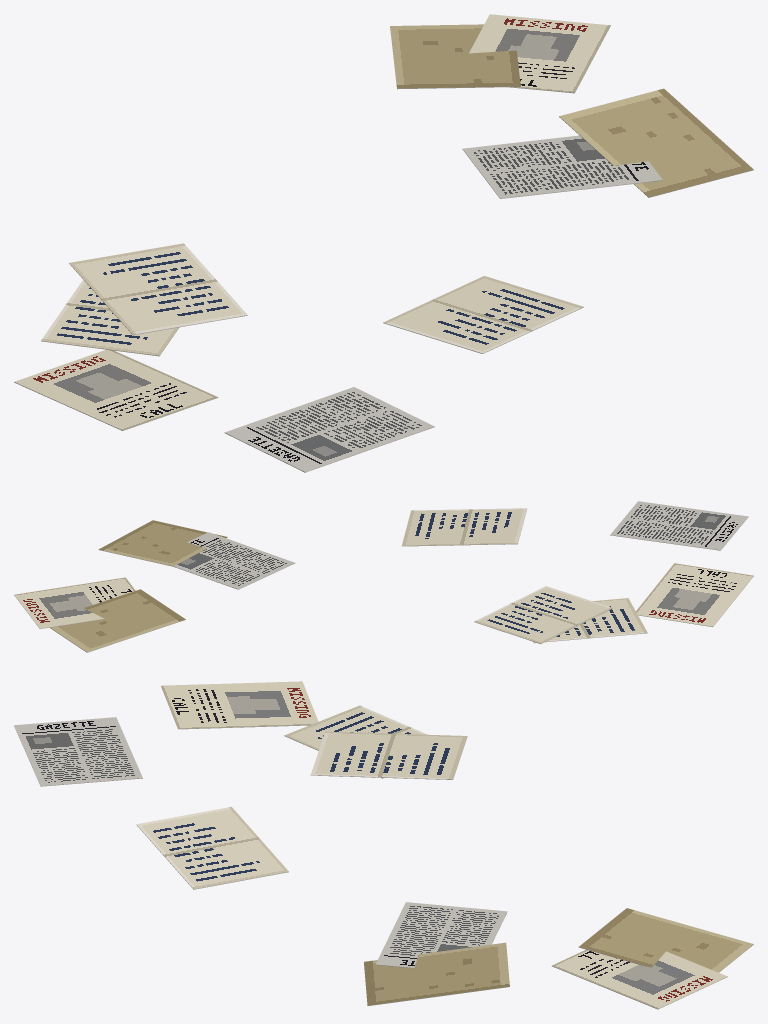
Rendered from ABN_ScatteredPapers.glb.
3 renders of one model, top to bottom at view 1: azimuth 30°, elevation 25°; view 2: azimuth 150°, elevation 25°; view 3: azimuth 270°, elevation 25°, orthographic. The views are drawn at different scales.
Parts seen in each view (by area): view 1: ABN_ScatteredPapers_Mesh; view 2: ABN_ScatteredPapers_Mesh; view 3: ABN_ScatteredPapers_Mesh.
Boxes of the visible parts, x1=… form: ABN_ScatteredPapers_Mesh: x1=14, y1=14, x2=753, y2=472; ABN_ScatteredPapers_Mesh: x1=14, y1=501, x2=753, y2=652; ABN_ScatteredPapers_Mesh: x1=14, y1=681, x2=753, y2=1009.
Size of the model in its own units: 1.58 by 0.0392 by 1.49.
Materials: 1 (1 with a texture image).
